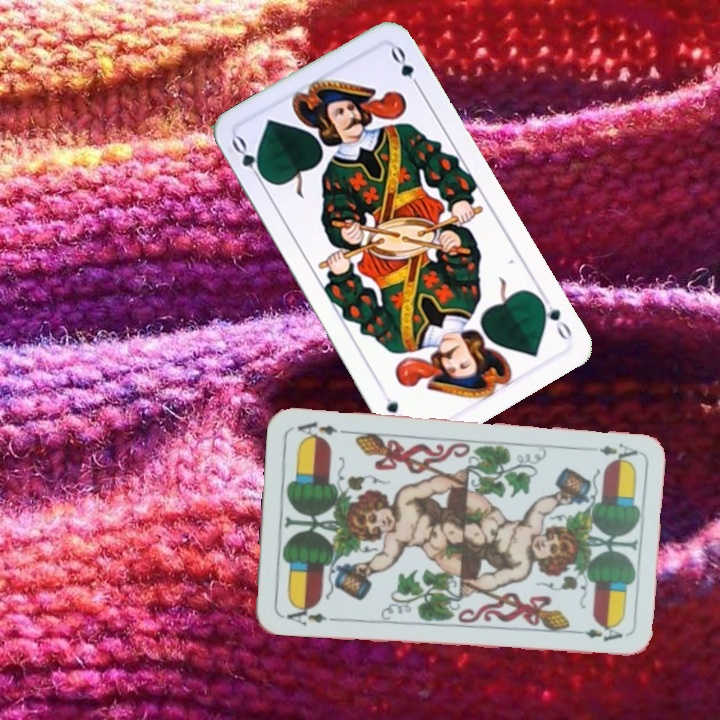EA: (278, 601, 337, 629), (594, 439, 640, 466)
GO: (227, 132, 271, 187), (533, 292, 575, 343)
